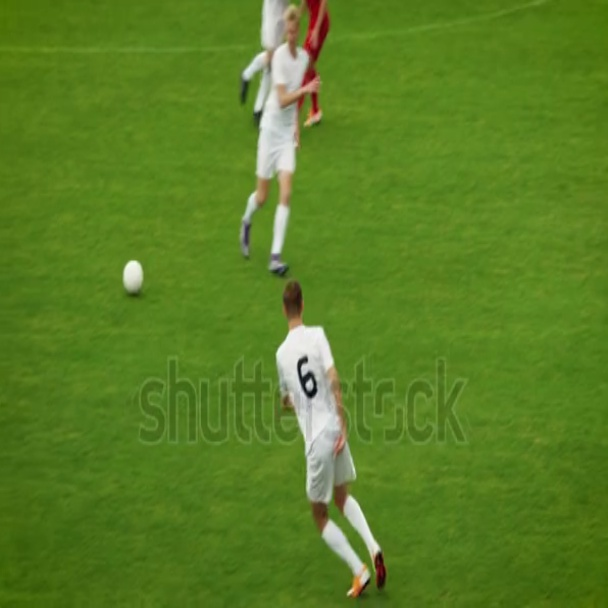ball: (125, 259, 142, 288)
